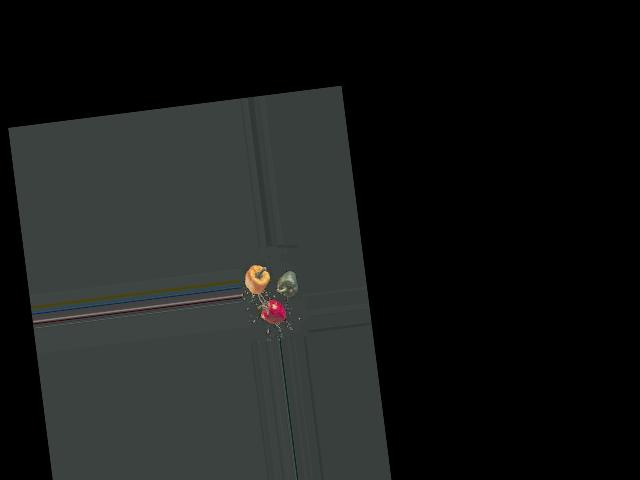bell_pepper: (252, 292, 292, 326)
